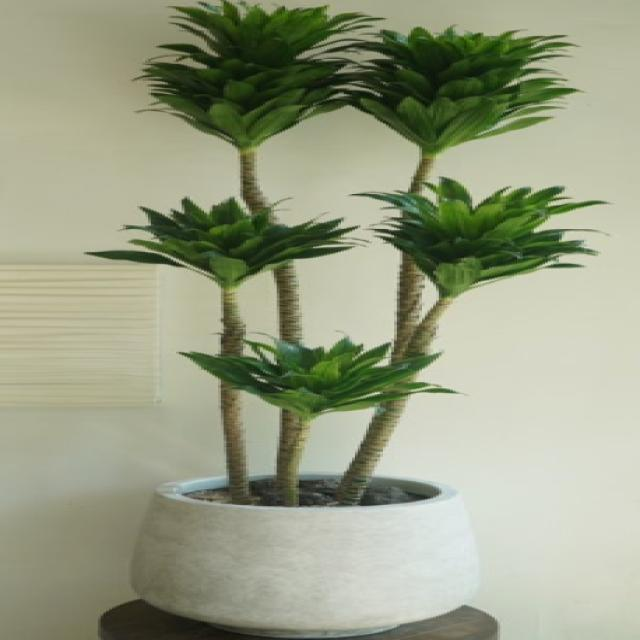Plant Pot: (102, 465, 543, 640)
